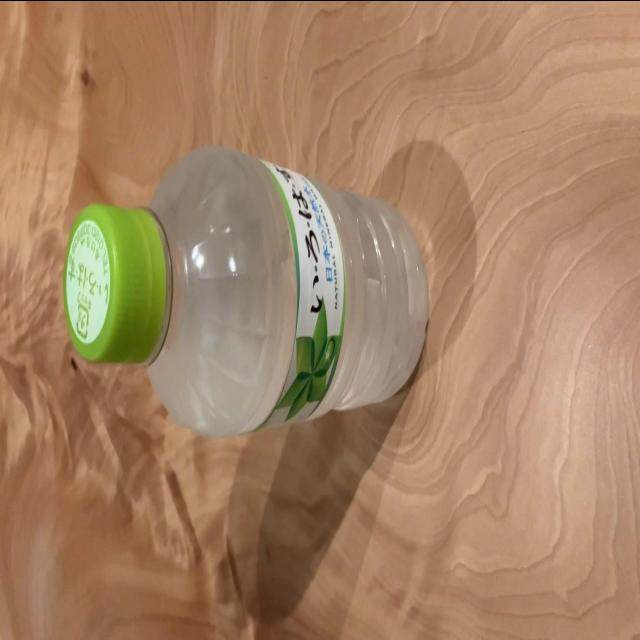寶特瓶: (62, 148, 431, 442)
